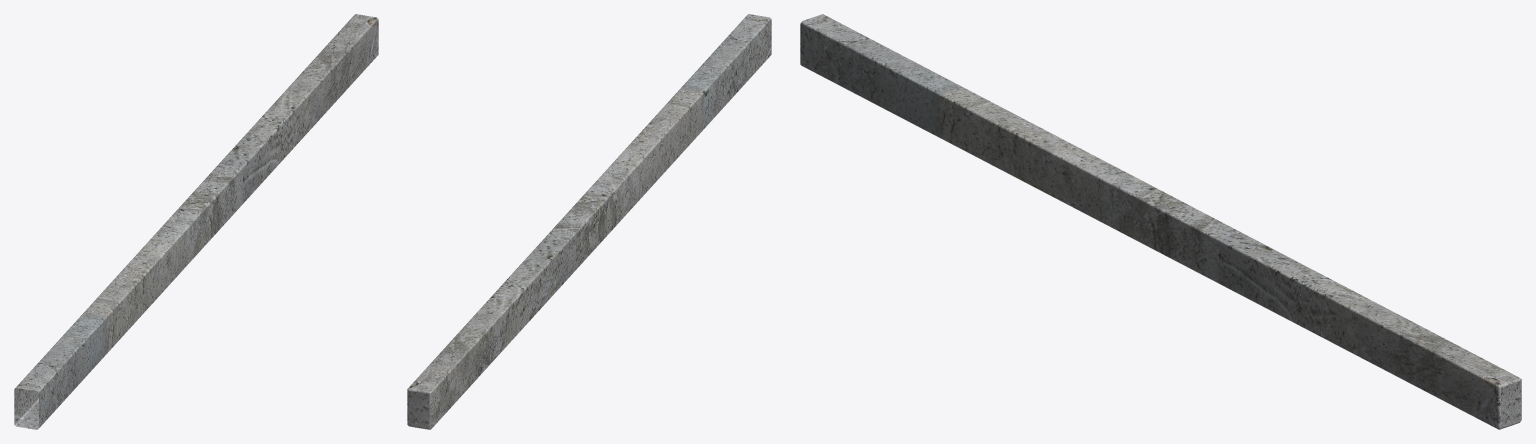
Rendered from fence_low.fbx.
3 views of the same model, side by side, from view 1: azimuth 30°, elevation 25°; view 2: azimuth 210°, elevation 25°; view 3: azimuth 270°, elevation 25° (orthographic). The views are drawn at different scales.
Parts seen in each view (by area): view 1: 9.007; view 2: 9.007; view 3: 9.007.
Boxes of the visible parts, x1,y1,x2,y2 form: 9.007: [14, 14, 378, 429]; 9.007: [407, 14, 771, 429]; 9.007: [800, 14, 1521, 429].
Size of the model in its own units: 1408 by 79.6 by 1153.
